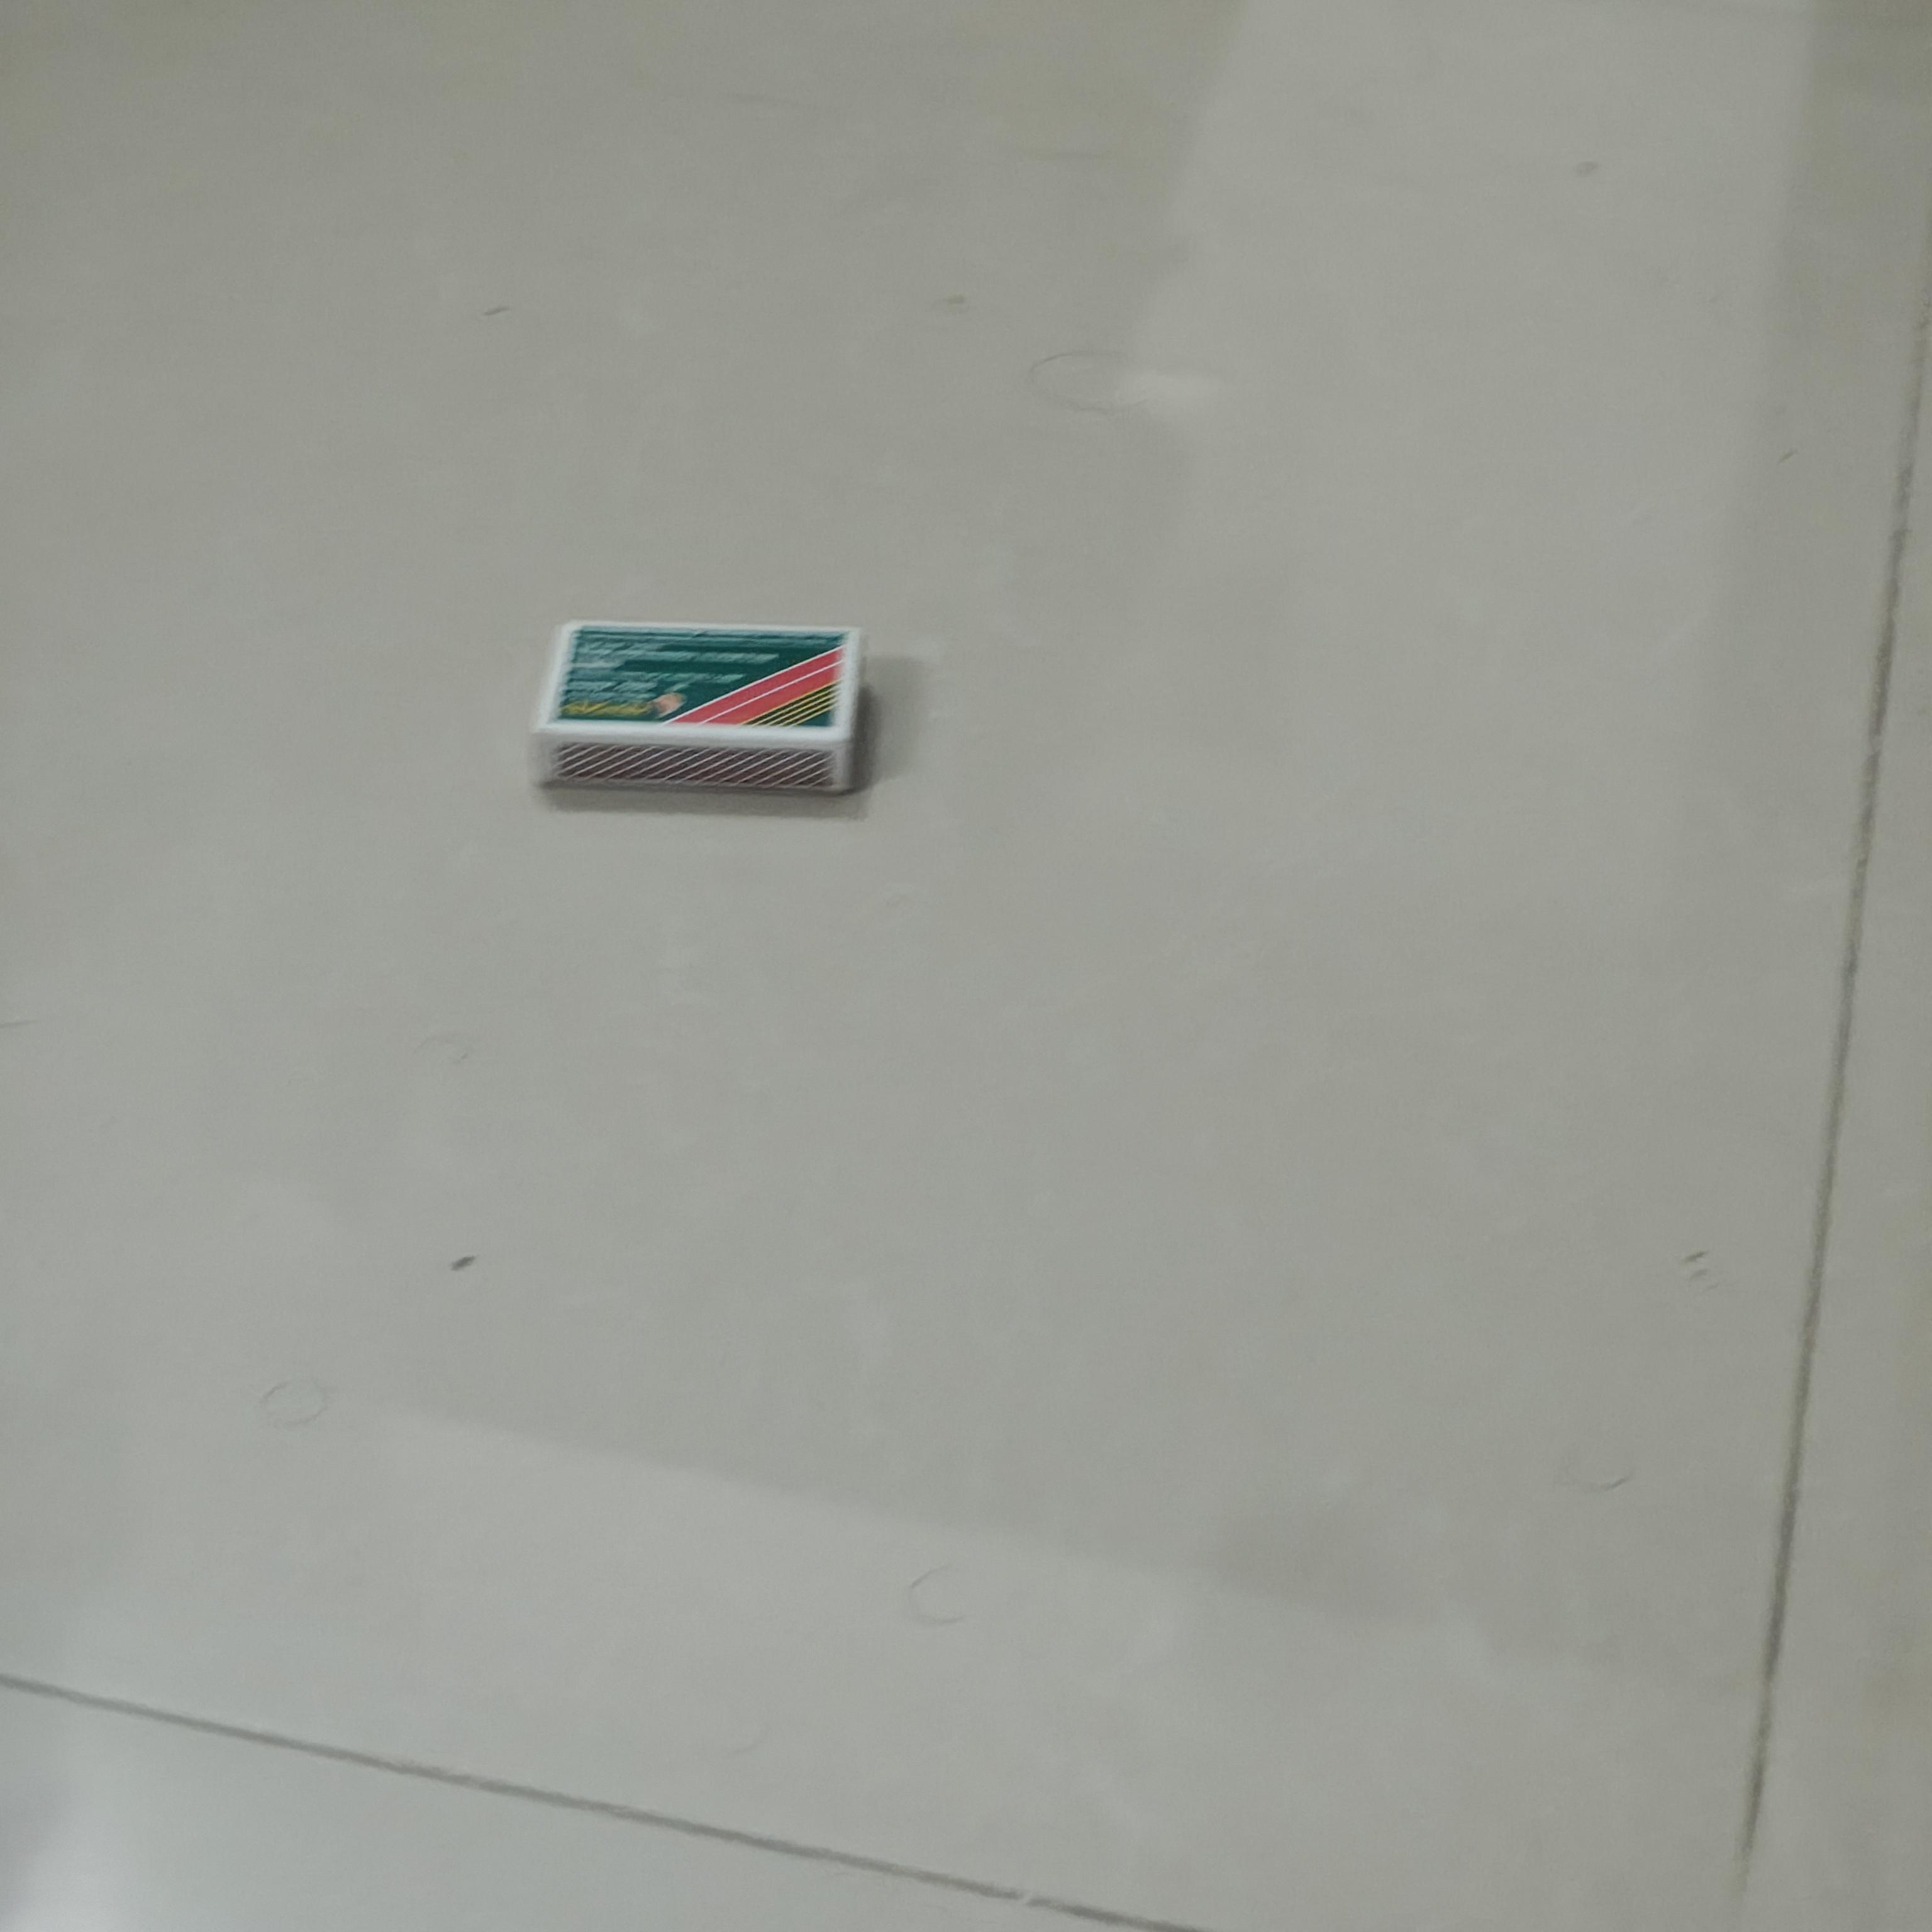garbage: (533, 619, 862, 789)
